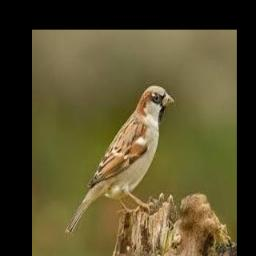Sparrow: (65, 85, 174, 235)
